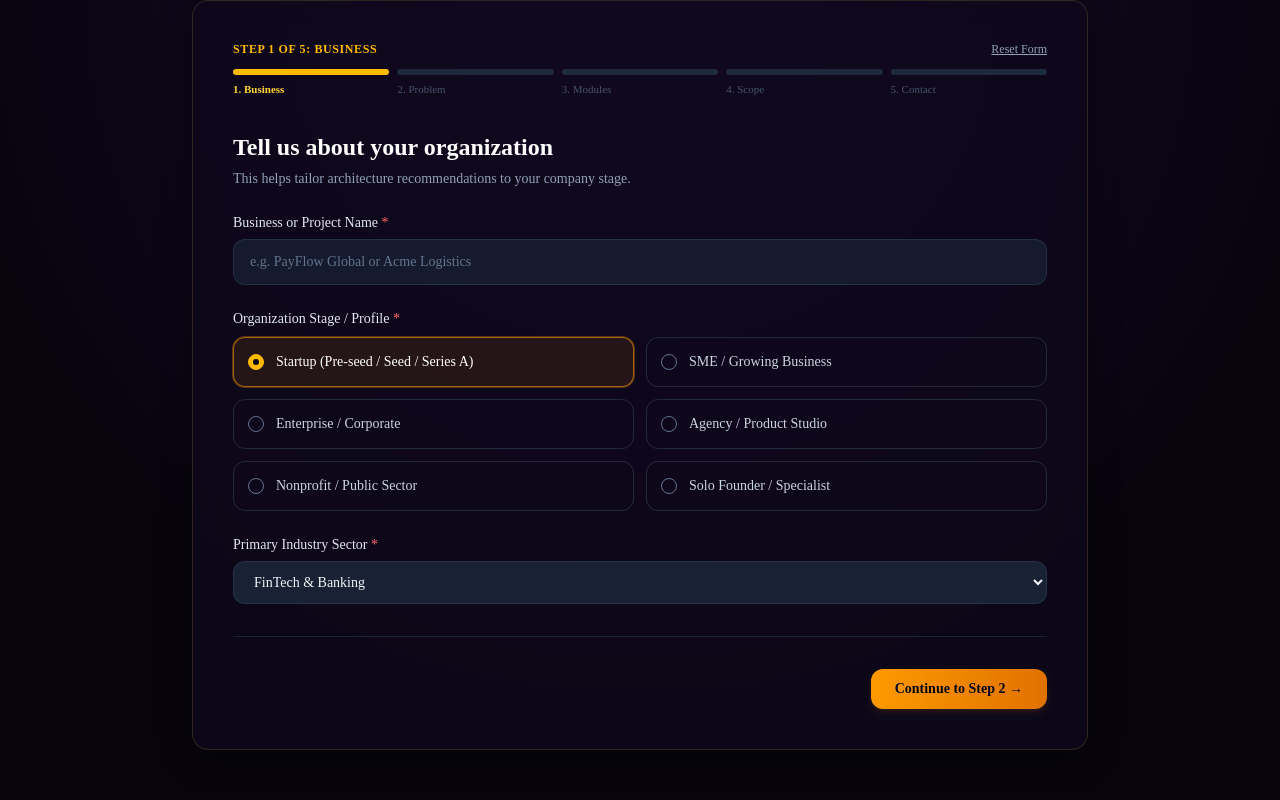
it: TASK-P10-01: Brief Wizard Multi-Step Component › supports Back navigation between steps
The width and height of the screenshot is (1280, 800).
Type "KoloLogistics" into the field labelled "Business or Project Name *" at (640, 262), box [233,239,1047,285]
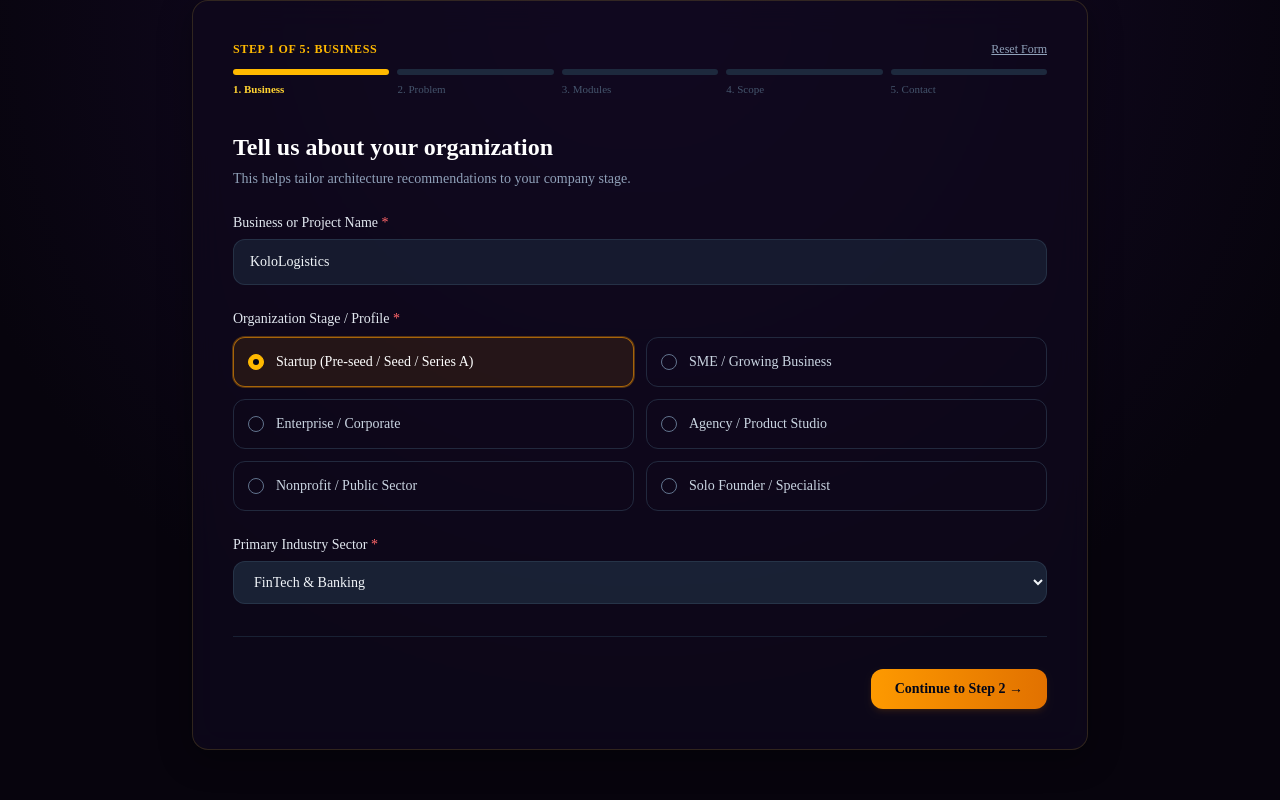
Click the button "Continue to Step 2 →" at (959, 689), box [871,669,1047,709]
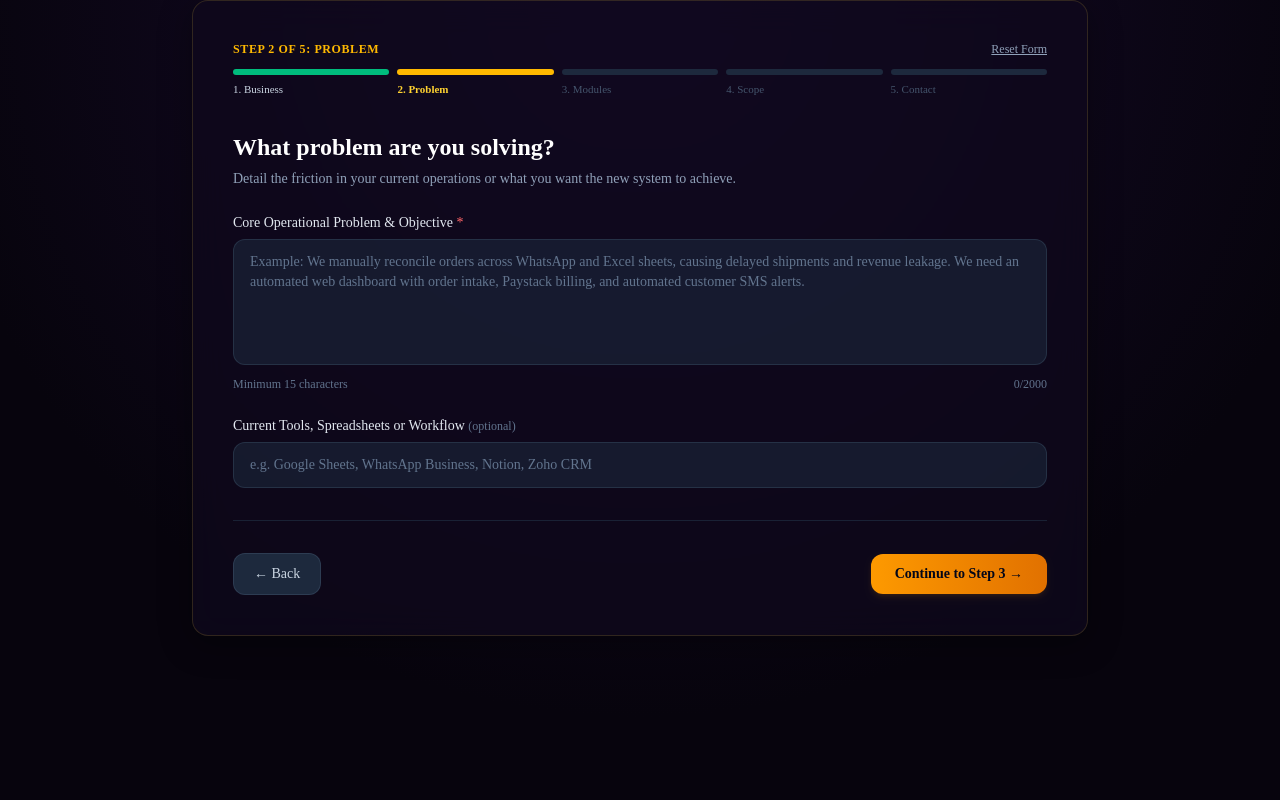
Expected: the text "Step 2 of 5: Problem" is shown, [233,41,379,57]
Click the button "← Back" at (277, 574), box [233,553,321,595]
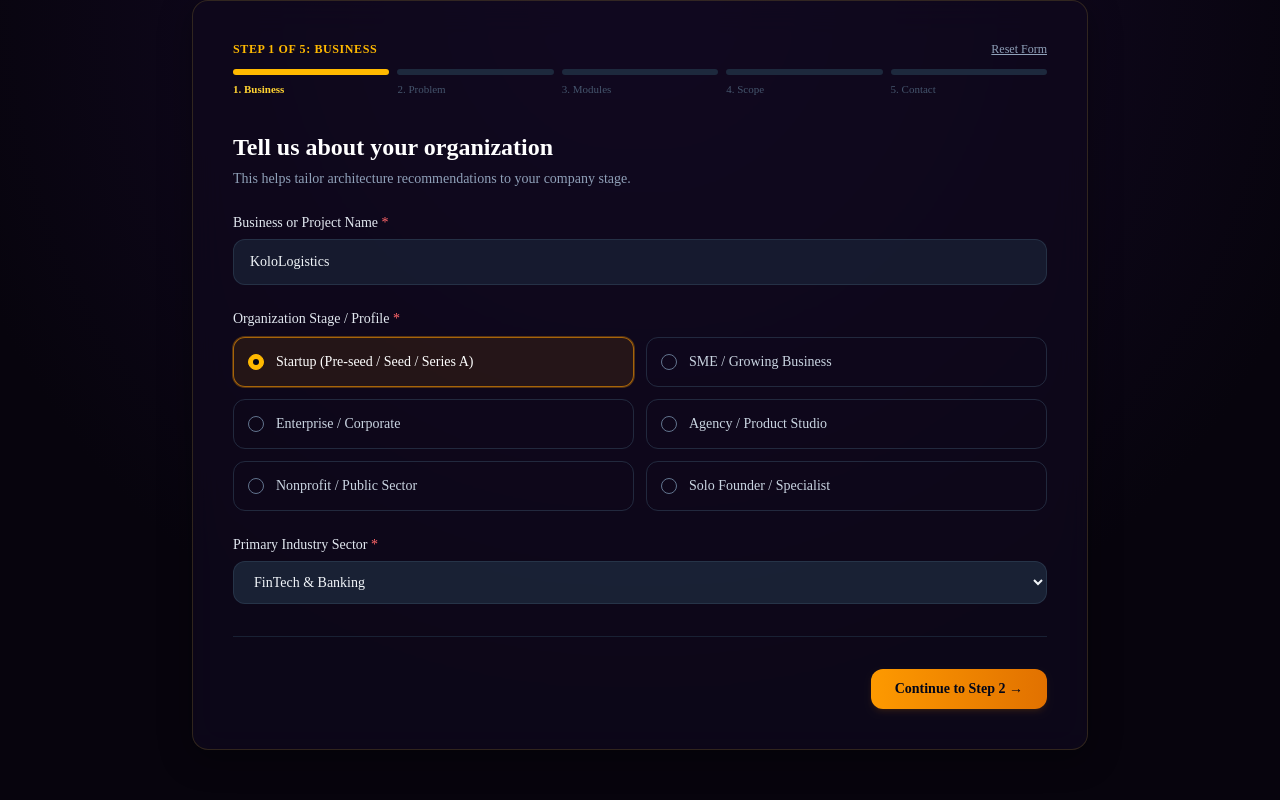
Expected: the text "Step 1 of 5: Business" is shown, [233,41,377,57]
Expected: the field showing "KoloLogistics" is shown, [233,239,1047,285]
